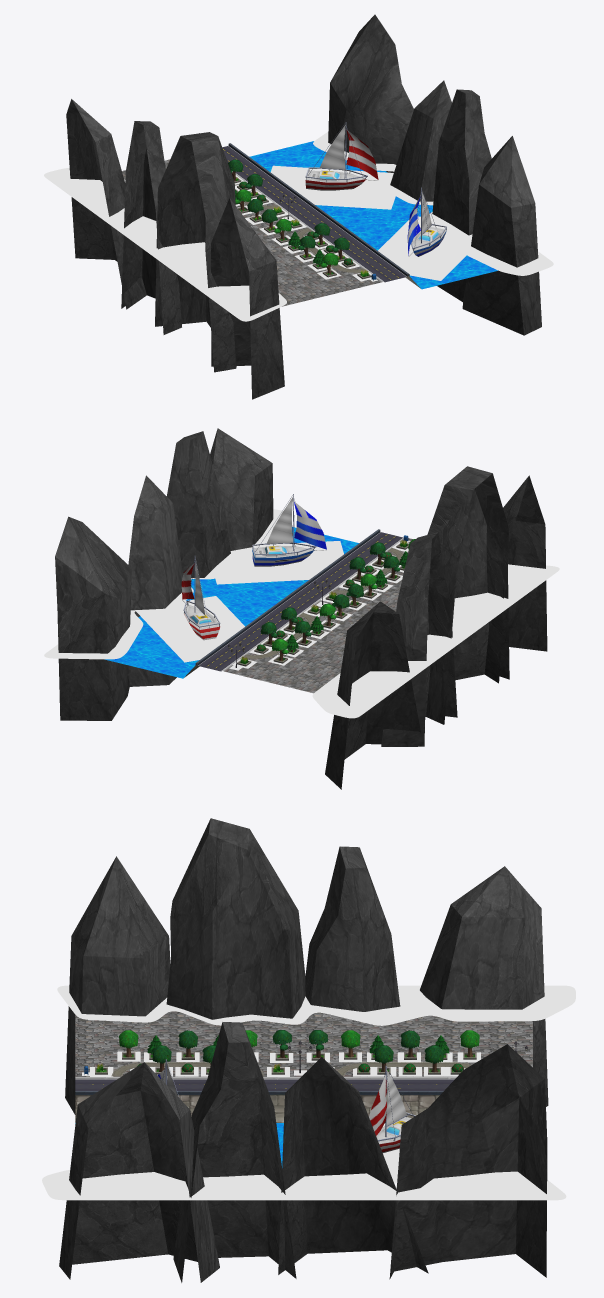
The model's file is City_09.fbx.
3 renders of one model, top to bottom at view 1: azimuth 30°, elevation 25°; view 2: azimuth 150°, elevation 25°; view 3: azimuth 270°, elevation 25°, orthographic. The views are drawn at different scales.
Parts seen in each view (by area): view 1: City_09; view 2: City_09; view 3: City_09.
Boxes of the visible parts, left/top/right/bottom form: City_09: left=44, top=14, right=553, bottom=399; City_09: left=44, top=428, right=559, bottom=789; City_09: left=42, top=818, right=575, bottom=1282.
Bounding box in the file's own units: 22617 × 13384 × 25170.
